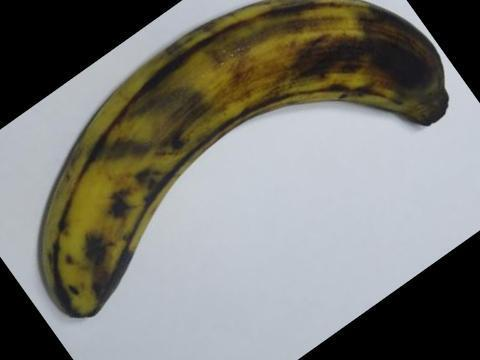overripe: (22, 0, 455, 325)
